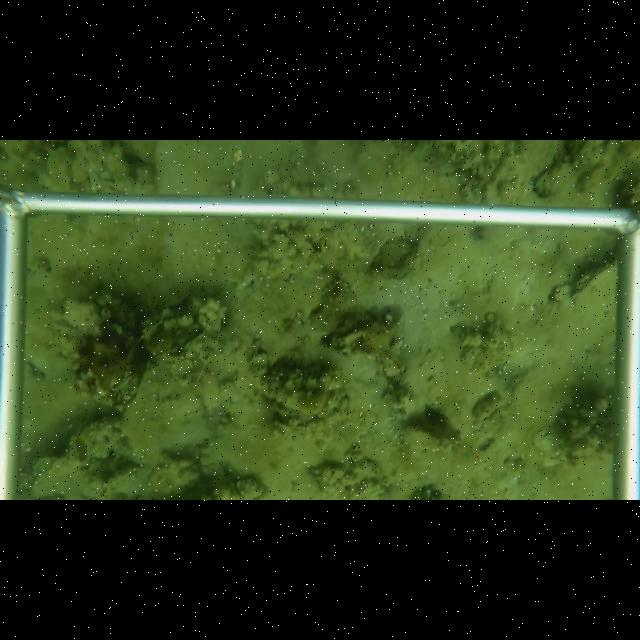Oyster-Closed: (570, 261, 618, 307)
